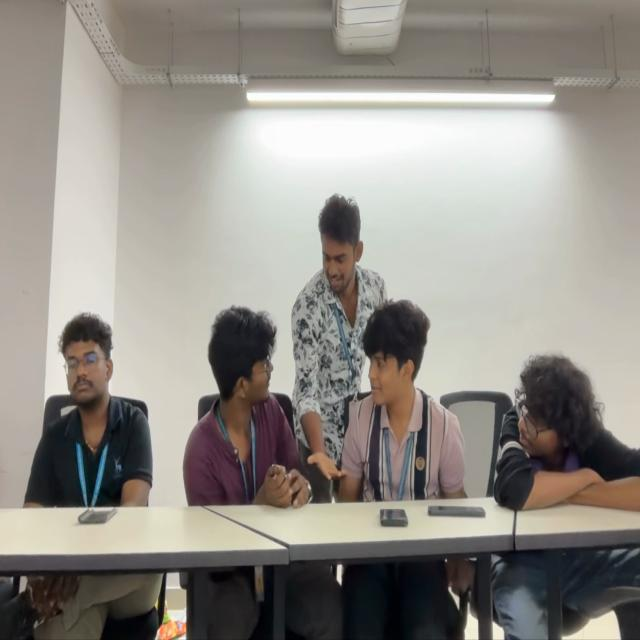Isolated: (24, 312, 153, 503), (494, 352, 640, 507)
socializing: (182, 192, 466, 502)
